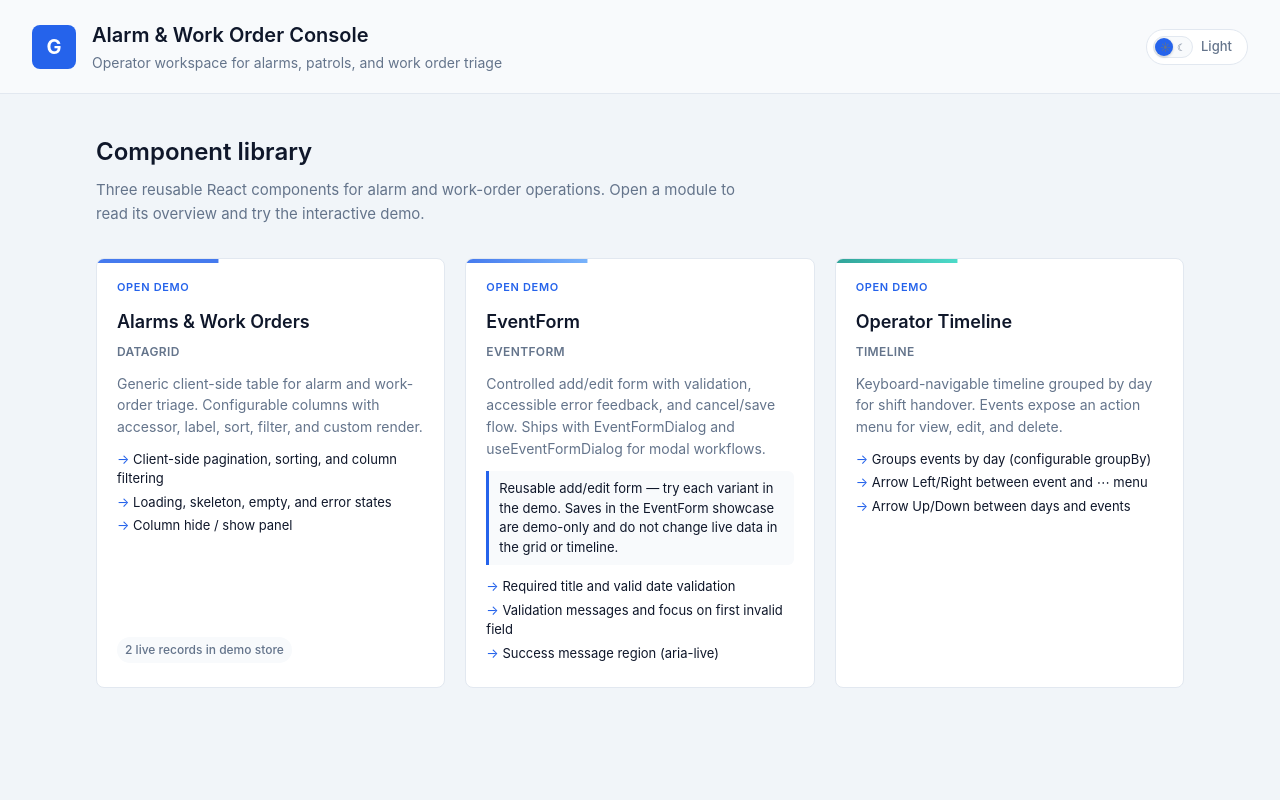
Test: App › returns to the home page from a module
The width and height of the screenshot is (1280, 800).
expect the element with class "home__grid" is shown: met, box [96, 258, 1184, 688]
Click the button "EventForm" at (640, 473), box [465, 258, 815, 688]
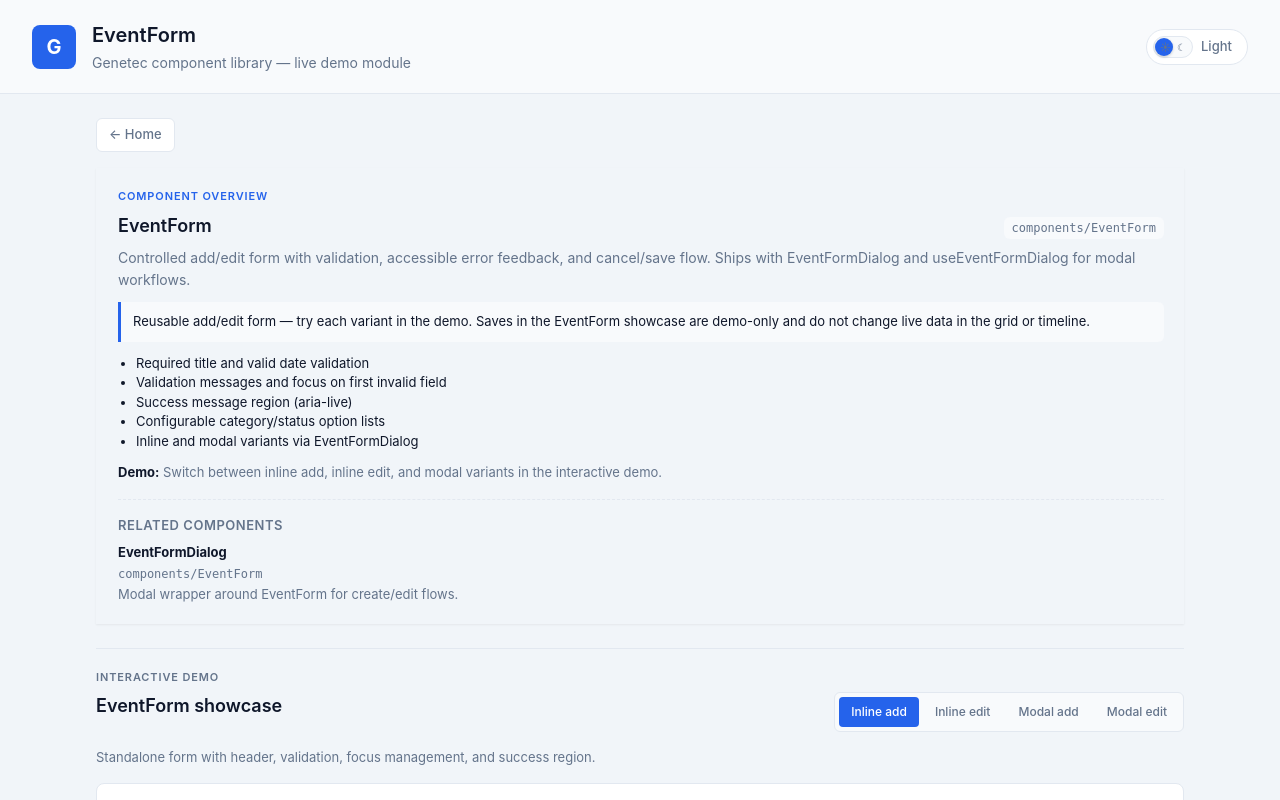
expect the 1st heading "EventForm" is shown: met, box [92, 23, 196, 47]
Click the button "← Home" at (135, 135), box [96, 118, 175, 152]
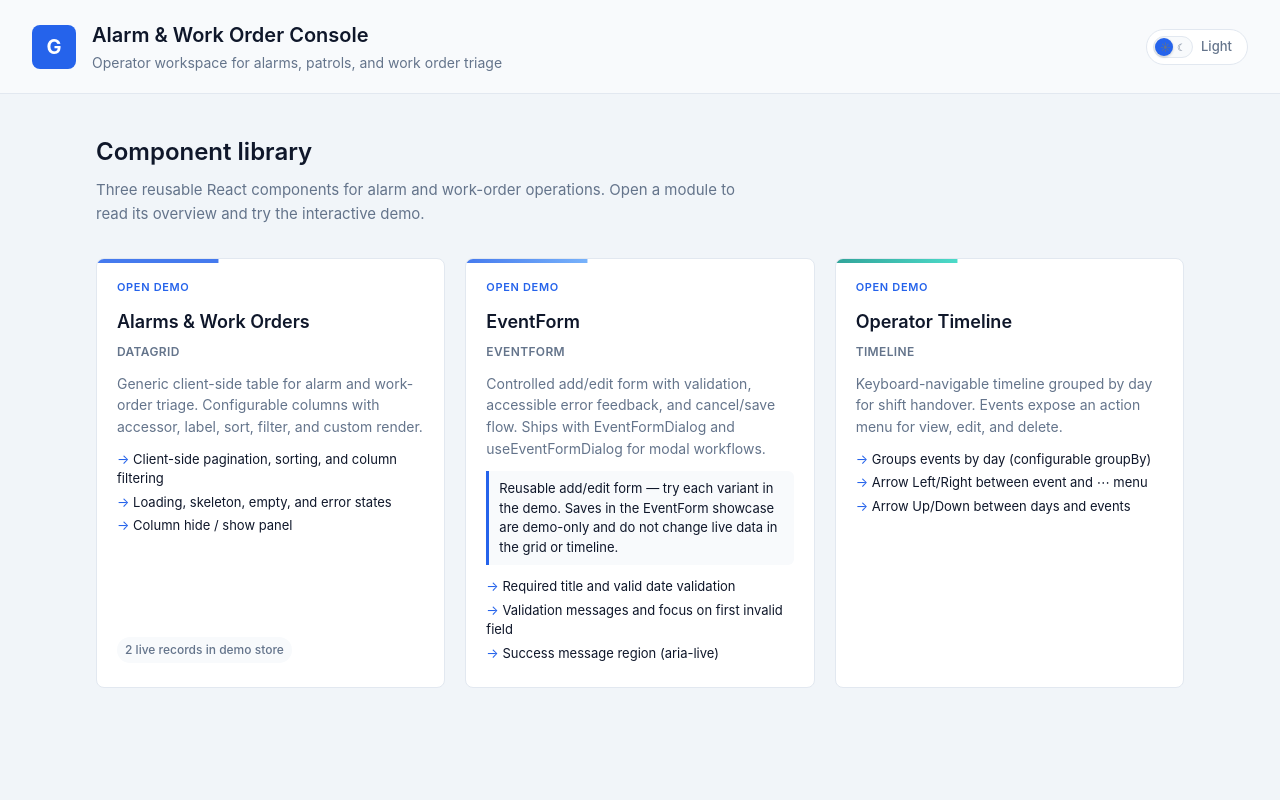
expect the heading "Alarm & Work Order Console" is shown: met, box [92, 23, 368, 47]
